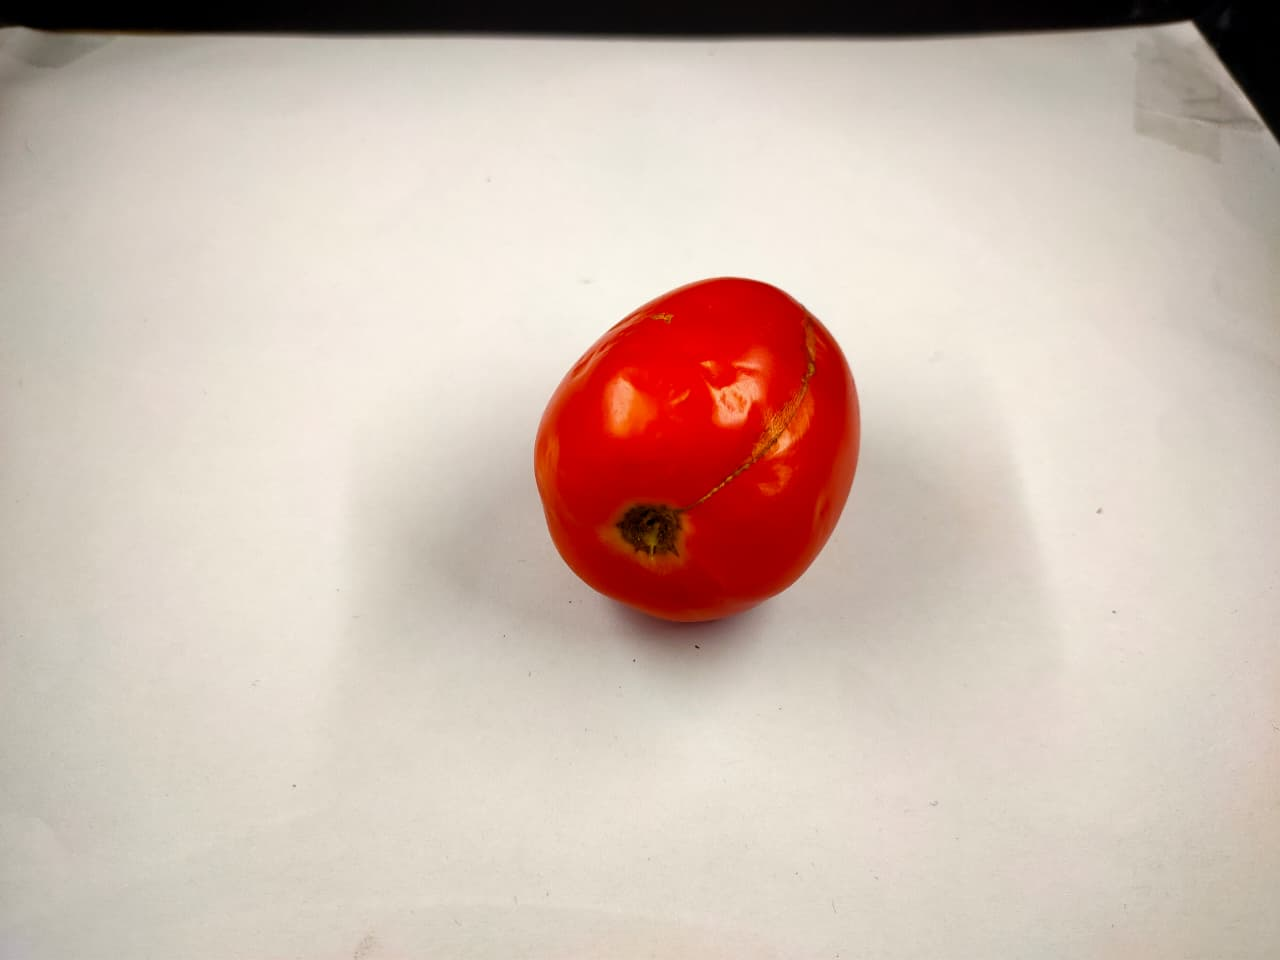damaged: (543, 265, 862, 652)
